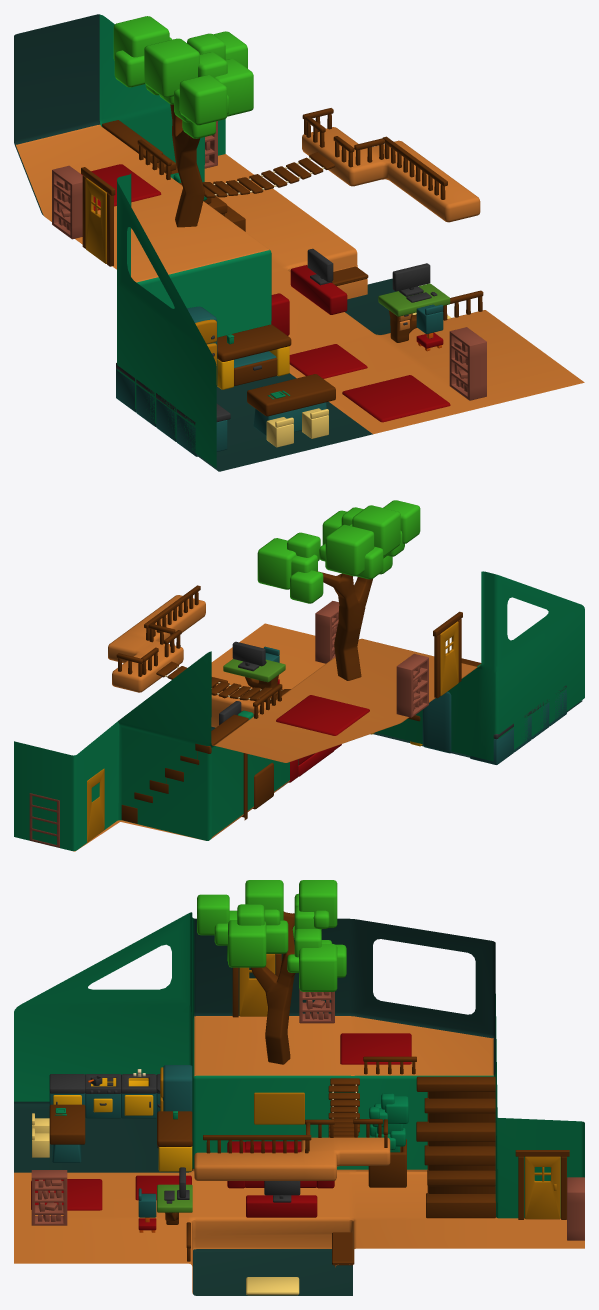
Rendered from MOD_House_v2.fbx.
3 views of the same model, one above another, from view 1: azimuth 30°, elevation 25°; view 2: azimuth 150°, elevation 25°; view 3: azimuth 270°, elevation 25° (orthographic). The views are drawn at different scales.
Visible parts, largest first — view 1: MOD_Walls, MOD_Tree, MOD_Platform, MOD_Cupboard, MOD_DiningTable, MOD_Carpet, MOD_Door, MOD_Bookcase_0, MOD_HangBridge, MOD_Bookcase_0.001, MOD_Desk.001, MOD_Carpet.002 (+16 smaller); view 2: MOD_Walls, MOD_Tree, MOD_Platform, MOD_Carpet.001, MOD_Door, MOD_Stairs, MOD_Bookcase_0.001, MOD_Fridge, MOD_Bookcase_0, MOD_HangBridge, MOD_Desk.001, MOD_Door.001 (+6 smaller); view 3: MOD_Walls, MOD_Tree, MOD_Stairs, MOD_Platform, MOD_Door.001, MOD_HousePlant, MOD_Cupboard, MOD_Bookcase_0, MOD_Carpet.001, MOD_DiningTable, MOD_Door, MOD_HangBridge (+17 smaller).
Boxes of the visible parts, box(x1,y1,x2,y2) form: MOD_Walls: box(14, 14, 584, 471); MOD_Tree: box(113, 16, 253, 227); MOD_Platform: box(302, 127, 480, 222); MOD_Cupboard: box(217, 324, 291, 389); MOD_DiningTable: box(247, 374, 335, 435); MOD_Carpet: box(342, 375, 450, 422); MOD_Door: box(81, 167, 115, 266); MOD_Bookcase_0: box(449, 327, 486, 400); MOD_HangBridge: box(179, 152, 334, 197); MOD_Bookcase_0.001: box(52, 165, 82, 239); MOD_Desk.001: box(378, 283, 450, 342); MOD_Carpet.002: box(289, 344, 367, 378); MOD_Walls: box(14, 571, 584, 851); MOD_Tree: box(257, 500, 420, 680); MOD_Platform: box(108, 595, 205, 692); MOD_Carpet.001: box(276, 695, 369, 735); MOD_Door: box(433, 611, 462, 698); MOD_Stairs: box(121, 714, 248, 823); MOD_Bookcase_0.001: box(396, 653, 428, 717); MOD_Fridge: box(422, 691, 453, 753); MOD_Bookcase_0: box(315, 601, 339, 663); MOD_HangBridge: box(156, 661, 290, 701); MOD_Desk.001: box(223, 659, 285, 703); MOD_Door.001: box(87, 768, 104, 842); MOD_Walls: box(14, 912, 584, 1295); MOD_Tree: box(197, 880, 346, 1064); MOD_Stairs: box(416, 1076, 495, 1218); MOD_Platform: box(194, 1137, 390, 1180); MOD_Door.001: box(515, 1150, 569, 1219); MOD_HousePlant: box(368, 1093, 408, 1187); MOD_Cupboard: box(157, 1111, 192, 1171); MOD_Bookcase_0: box(31, 1170, 67, 1225); MOD_Carpet.001: box(340, 1033, 411, 1064); MOD_DiningTable: box(49, 1104, 85, 1162); MOD_Door: box(232, 953, 282, 1017); MOD_HangBridge: box(328, 1078, 359, 1137).
Bounding box in the file's own units: 1050 × 906 × 1600.
